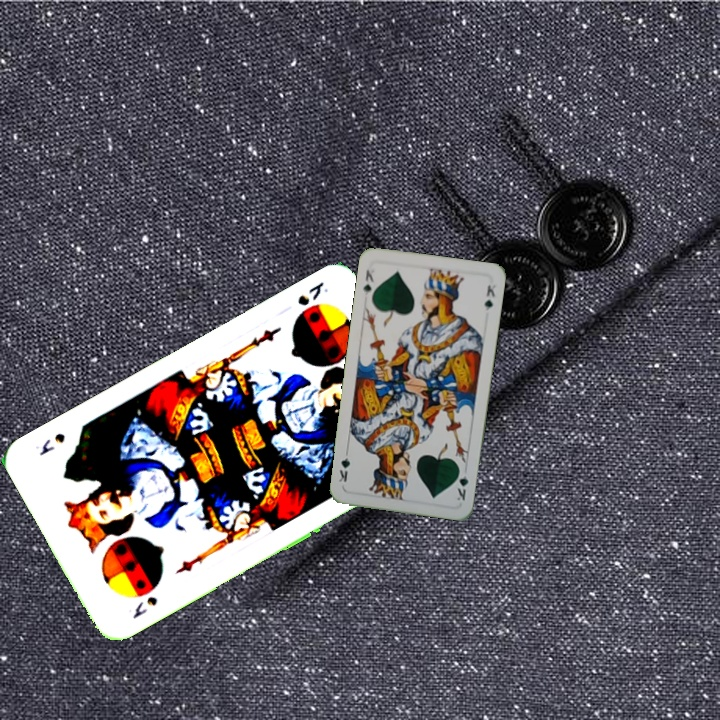GK: (453, 464, 471, 503), (359, 266, 377, 298)
SK: (293, 277, 331, 309), (128, 592, 160, 622)
